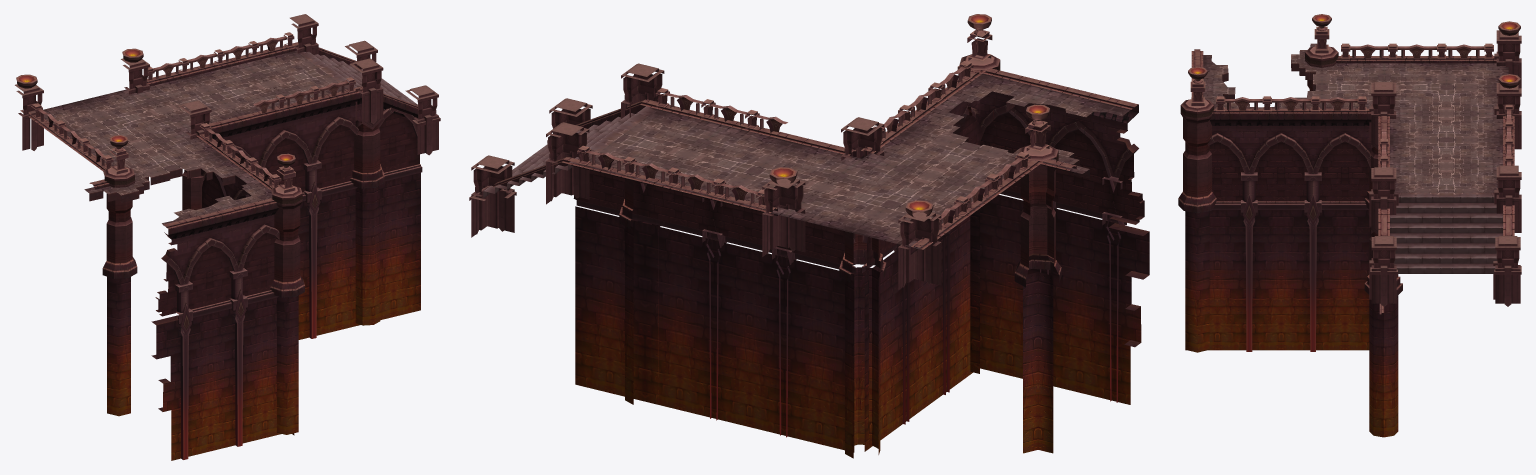
File: Dungeons_03_02_04.FBX
3 renders of one model, left to right at view 1: azimuth 30°, elevation 25°; view 2: azimuth 150°, elevation 25°; view 3: azimuth 270°, elevation 25°, orthographic. The views are drawn at different scales.
Parts seen in each view (by area): view 1: Object362; view 2: Object362; view 3: Object362.
Part boxes in pixels (left/top/right/bottom): Object362: left=15, top=14, right=440, bottom=460; Object362: left=469, top=14, right=1149, bottom=458; Object362: left=1178, top=14, right=1521, bottom=437.
Size of the model in its own units: 307 by 211 by 236.
